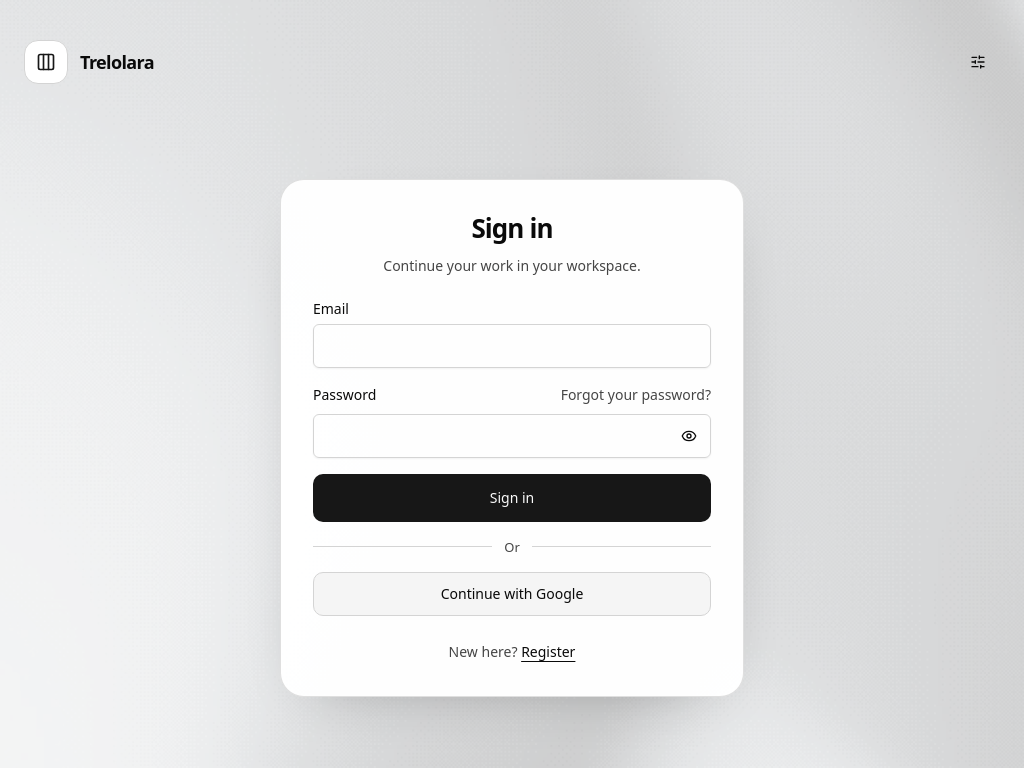
offers verification for an unverified login while preserving its destination
In the field labelled "Email": (512, 346) [313, 324, 711, 368], type "member@example.test"
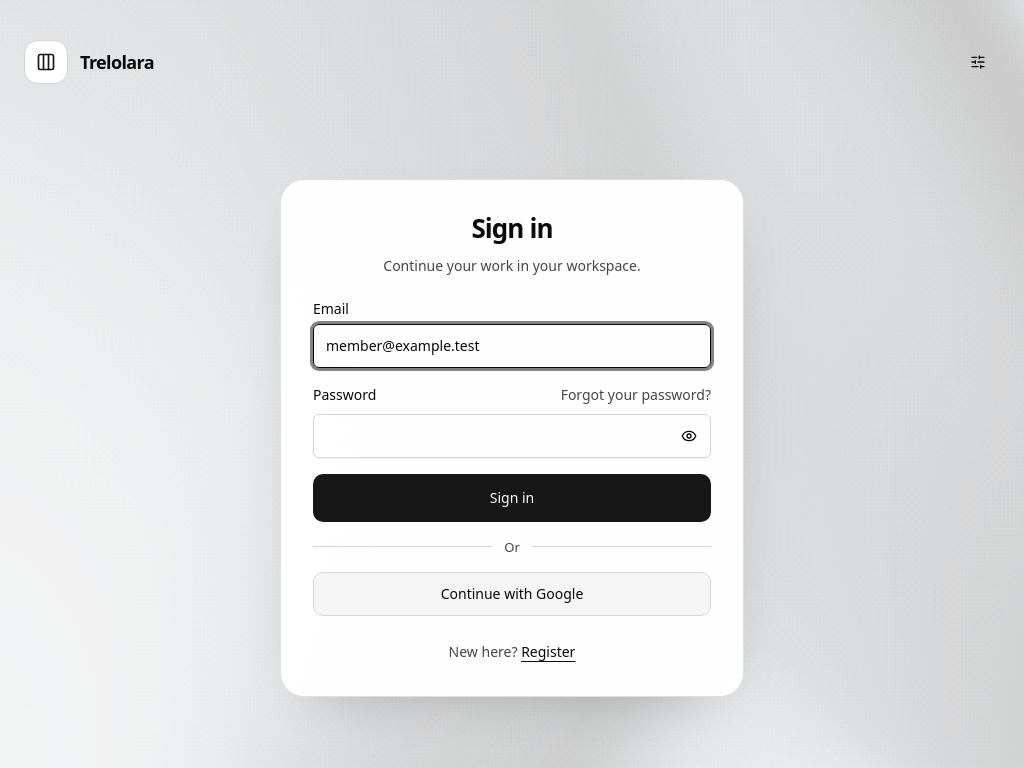
In the password field labelled "Password": (512, 436) [313, 414, 711, 458], type "test-password"
Then press Enter
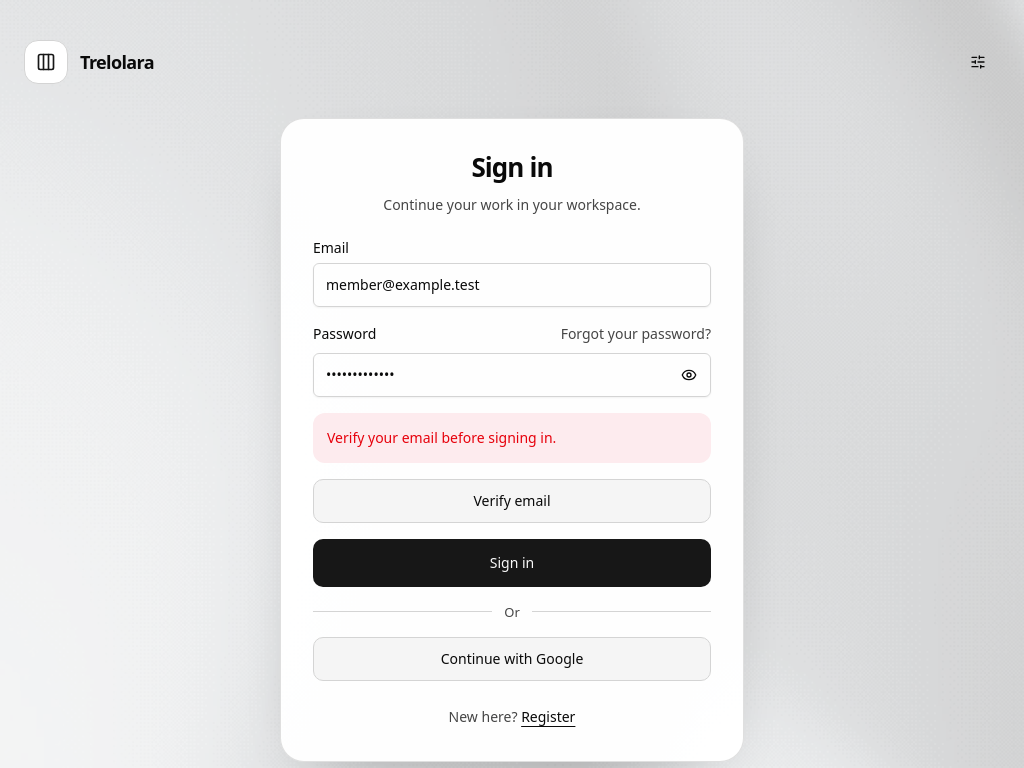
Click the button "Verify email": (512, 501) [313, 479, 711, 523]
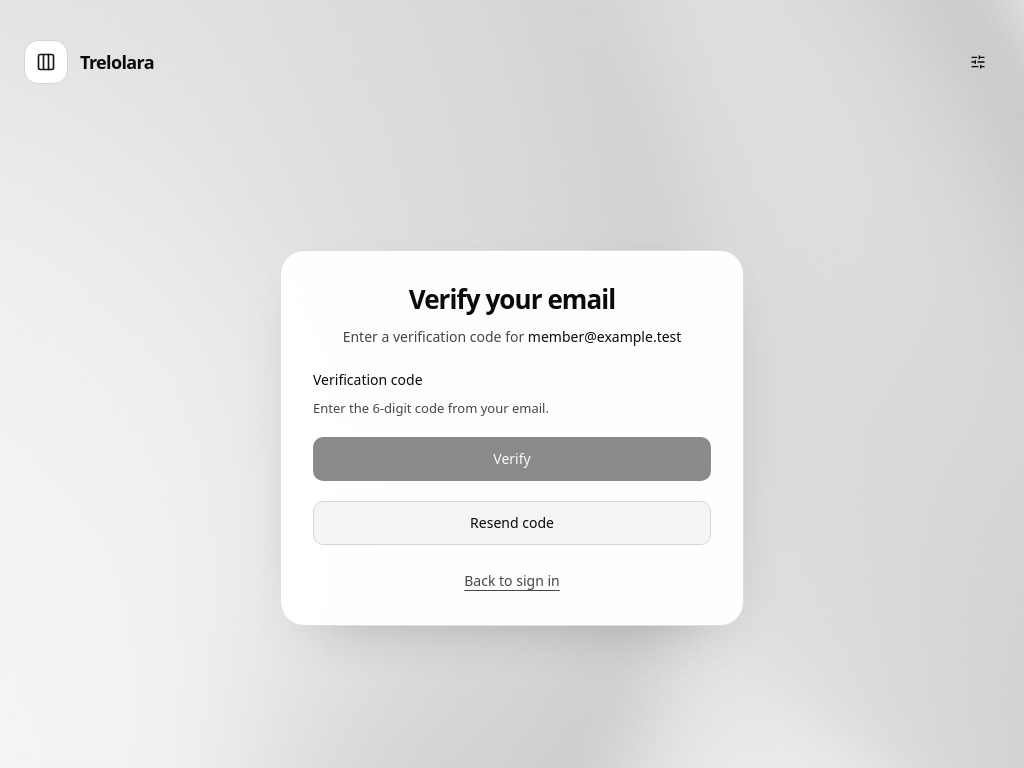
Expected: the heading "Verify your email" is shown, [409, 281, 615, 317]
Expected: the text "member@example.test" is shown, [528, 327, 681, 346]
